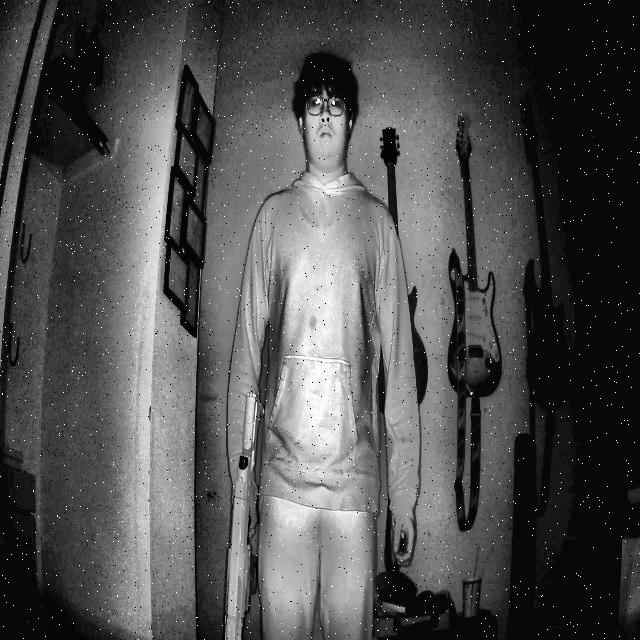Nerf_Blaster: (213, 371, 275, 640)
